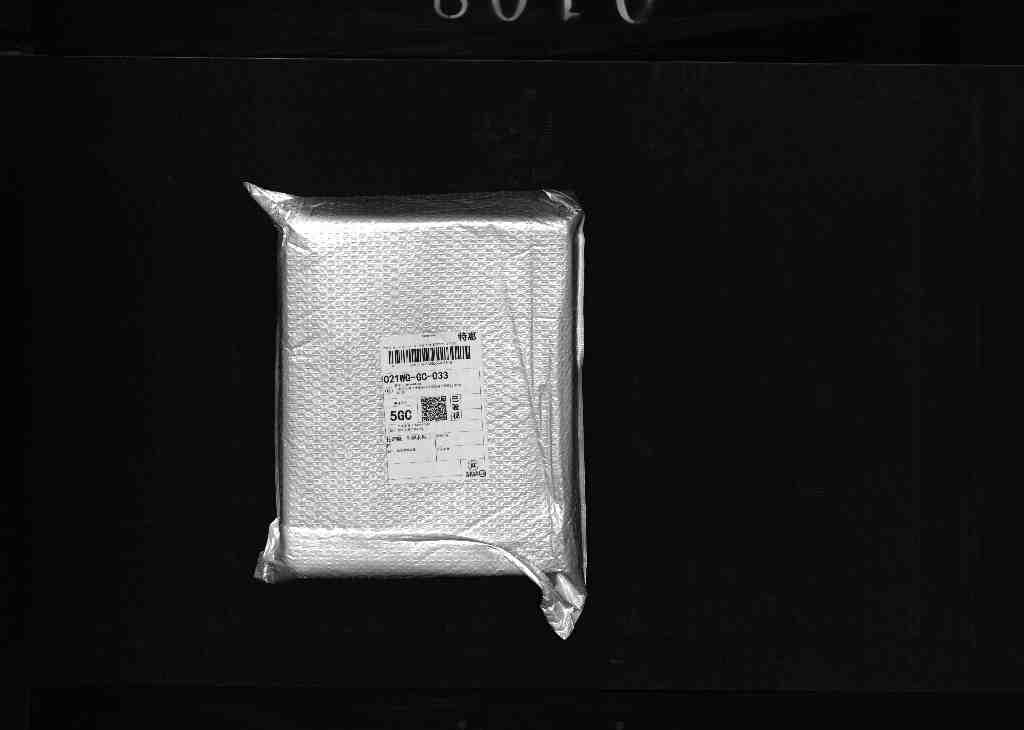box: (231, 182, 631, 628)
